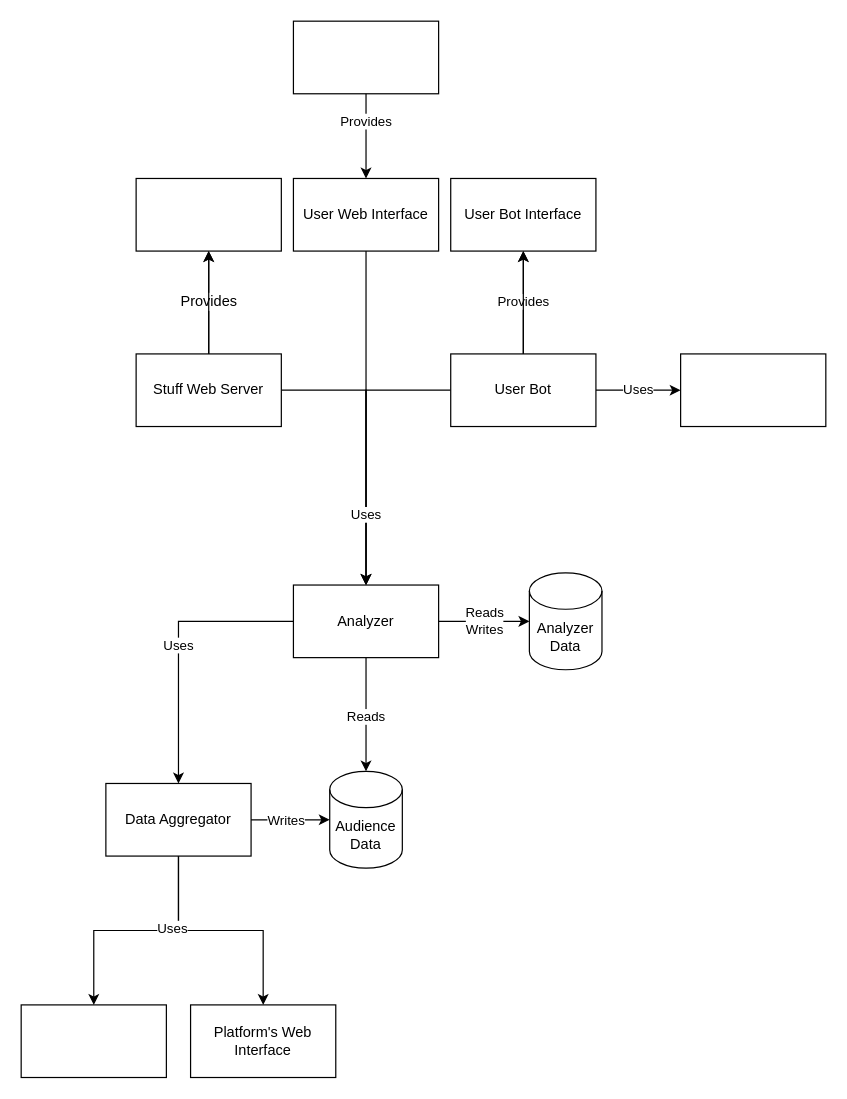
The diagram is 847 pixels wide and 1099 high, and some of its shapes have lost their labels. Each missing label, with the centre of its shape:
Content Delivery Network: point (365, 57)
Platform's API: point (93, 1041)
Platform's Bot API: point (752, 390)
Stuff Web Interface: point (208, 214)
